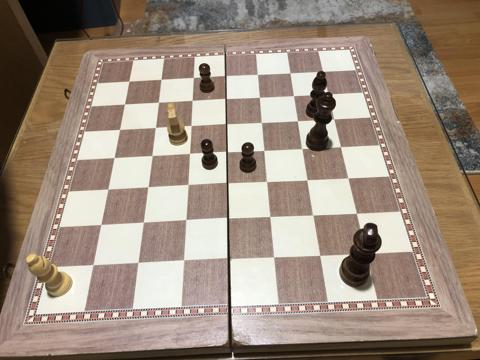xcorner: (254, 90, 267, 103), (186, 93, 199, 106), (149, 120, 162, 133), (259, 143, 272, 156), (351, 206, 364, 219), (308, 208, 321, 221), (265, 210, 278, 223), (252, 68, 265, 80), (155, 72, 168, 84), (322, 87, 335, 99), (288, 89, 301, 101), (220, 92, 233, 104), (152, 95, 165, 107), (119, 96, 131, 109), (328, 112, 341, 124), (257, 115, 269, 128), (113, 122, 126, 134), (335, 140, 348, 152), (297, 142, 310, 154), (221, 145, 234, 157), (183, 147, 196, 159), (146, 148, 158, 161), (108, 150, 120, 163), (302, 173, 315, 185), (182, 178, 194, 191), (101, 182, 114, 194), (94, 218, 107, 230), (223, 253, 236, 265), (177, 255, 190, 267), (317, 65, 329, 77), (285, 66, 297, 78), (220, 69, 232, 81), (188, 71, 200, 83), (123, 74, 135, 86), (293, 114, 305, 126), (221, 117, 233, 129), (185, 119, 197, 131), (343, 171, 355, 183), (262, 175, 274, 187), (222, 177, 234, 189), (142, 180, 154, 192), (223, 212, 235, 224), (180, 214, 192, 226), (137, 216, 149, 228), (361, 247, 373, 259), (315, 249, 327, 261), (269, 251, 281, 263), (132, 257, 144, 269), (86, 259, 98, 271)
